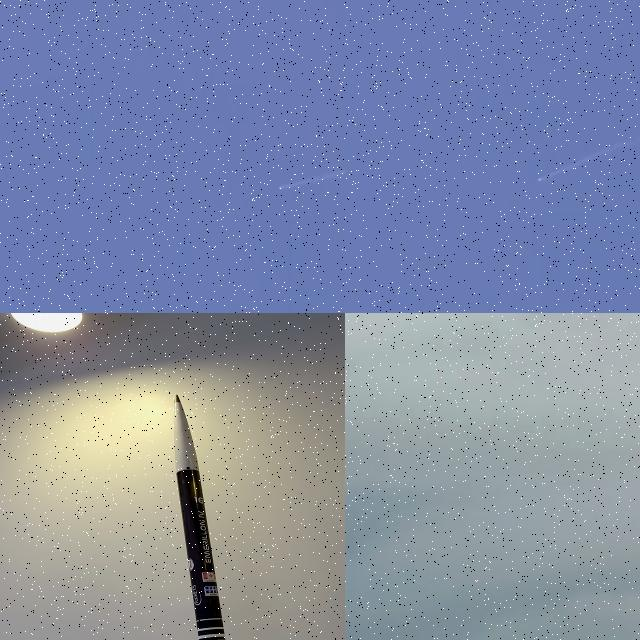Rocket: (173, 394, 226, 640), (536, 178, 540, 182), (278, 187, 282, 190)
